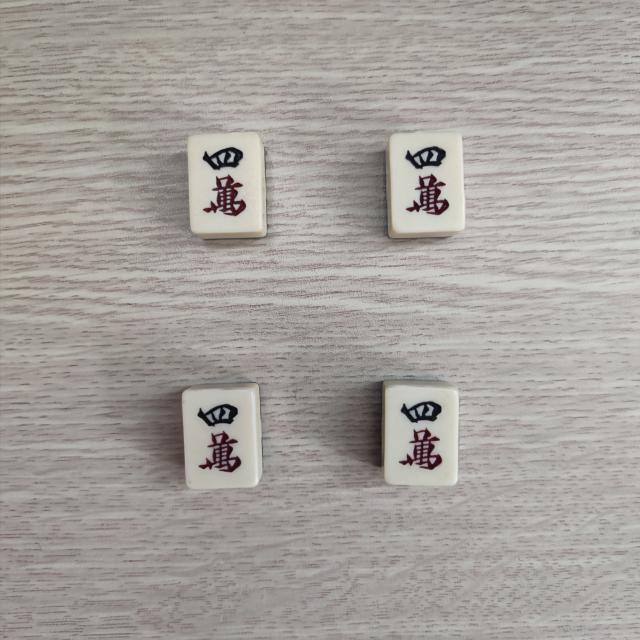sc4: (397, 137, 458, 225), (392, 391, 452, 478), (195, 140, 257, 223), (189, 396, 250, 478)
